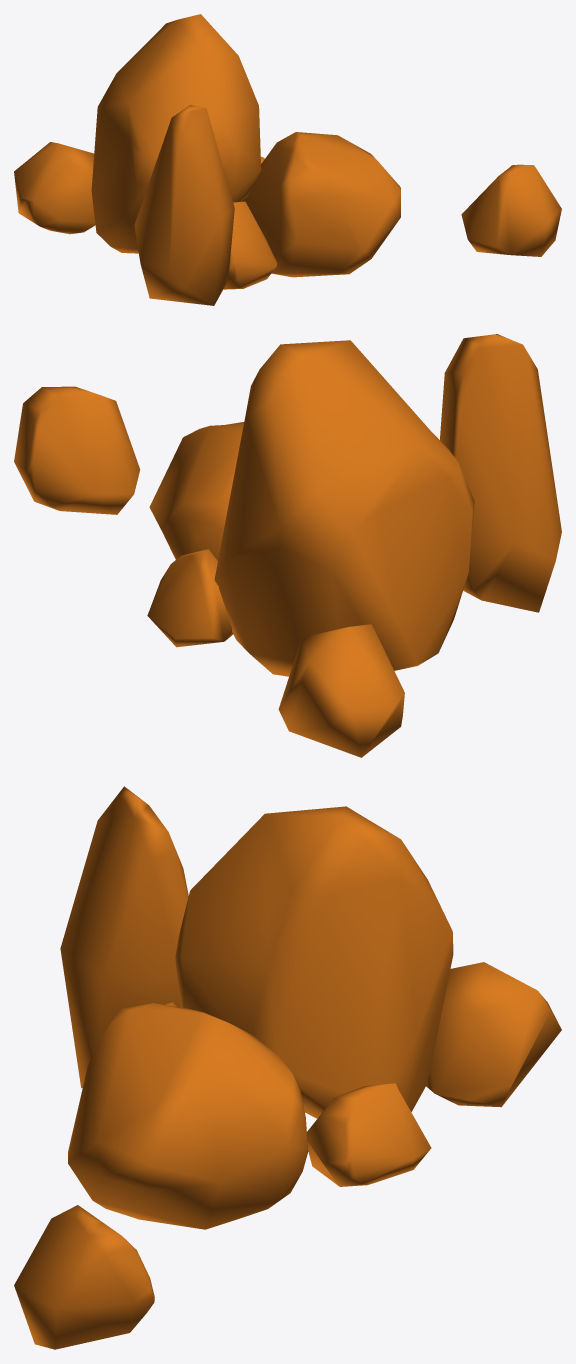
Rendered from rocks2.glb.
3 renders of one model, top to bottom at view 1: azimuth 30°, elevation 25°; view 2: azimuth 150°, elevation 25°; view 3: azimuth 270°, elevation 25°, orthographic. The views are drawn at different scales.
Parts seen in each view (by area): view 1: pasted__pPlatonic2 group2, pPlatonic2, pasted__pPlatonic1 group5, pPlatonic1, pasted__pPlatonic1 group1, pasted__pPlatonic1 group3; view 2: pasted__pPlatonic2 group2, pasted__pPlatonic1 group5, pPlatonic1, pasted__pPlatonic1 group1, pPlatonic2, pasted__pasted__pPlatonic1 pasted__group1 group4; view 3: pasted__pPlatonic2 group2, pPlatonic2, pasted__pPlatonic1 group5, pPlatonic1, pasted__pPlatonic1 group1, pasted__pasted__pPlatonic1 pasted__group1 group4.
Part boxes in pixels (x1,y1,x2,y2): pasted__pPlatonic2 group2: (91, 14, 261, 253); pPlatonic2: (242, 132, 400, 277); pasted__pPlatonic1 group5: (134, 105, 234, 305); pPlatonic1: (461, 164, 561, 256); pasted__pPlatonic1 group1: (14, 142, 95, 234); pasted__pPlatonic1 group3: (223, 201, 277, 289); pasted__pPlatonic2 group2: (214, 340, 474, 676); pasted__pPlatonic1 group5: (440, 334, 561, 612); pPlatonic1: (14, 386, 140, 514); pasted__pPlatonic1 group1: (278, 624, 404, 757); pPlatonic2: (149, 422, 244, 560); pasted__pasted__pPlatonic1 pasted__group1 group4: (147, 549, 233, 647); pasted__pPlatonic2 group2: (175, 806, 453, 1118); pPlatonic2: (68, 1003, 308, 1229); pasted__pPlatonic1 group5: (60, 786, 188, 1088); pPlatonic1: (14, 1205, 154, 1349); pasted__pPlatonic1 group1: (426, 962, 561, 1107); pasted__pasted__pPlatonic1 pasted__group1 group4: (307, 1083, 431, 1186).
Size of the model in its own units: 46.72 by 25.68 by 36.71.
